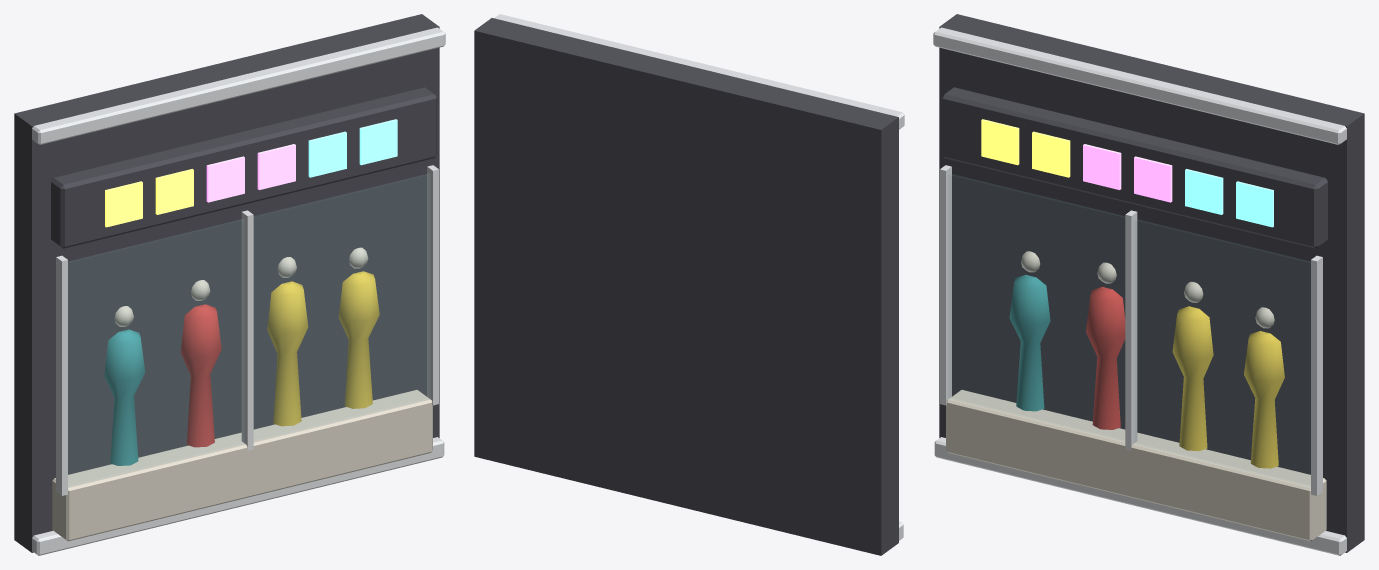
The model's file is wall_mp_store2.glb.
3 views of the same model, side by side, from view 1: azimuth 30°, elevation 25°; view 2: azimuth 150°, elevation 25°; view 3: azimuth 330°, elevation 25° (orthographic).
Parts seen in each view (by area): view 1: wall_mp_store2; view 2: wall_mp_store2; view 3: wall_mp_store2.
Part boxes in pixels (x1,y1,x2,y2): wall_mp_store2: [14, 14, 445, 555]; wall_mp_store2: [474, 14, 904, 555]; wall_mp_store2: [933, 14, 1364, 555].
Size of the model in its own units: 4 by 4 by 0.575.
